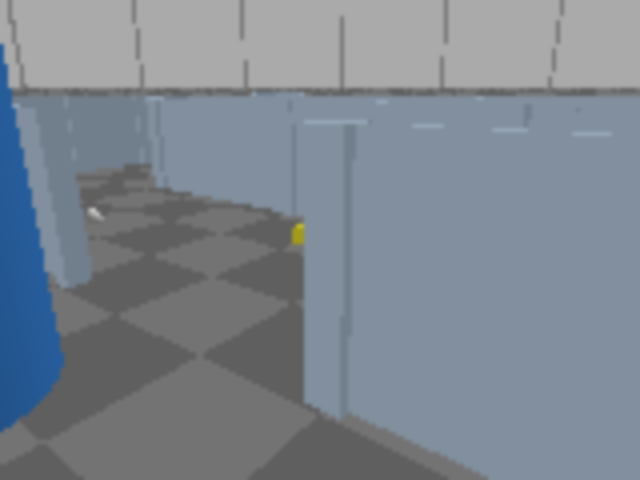puck: (81, 207, 106, 227), (293, 224, 312, 244)
